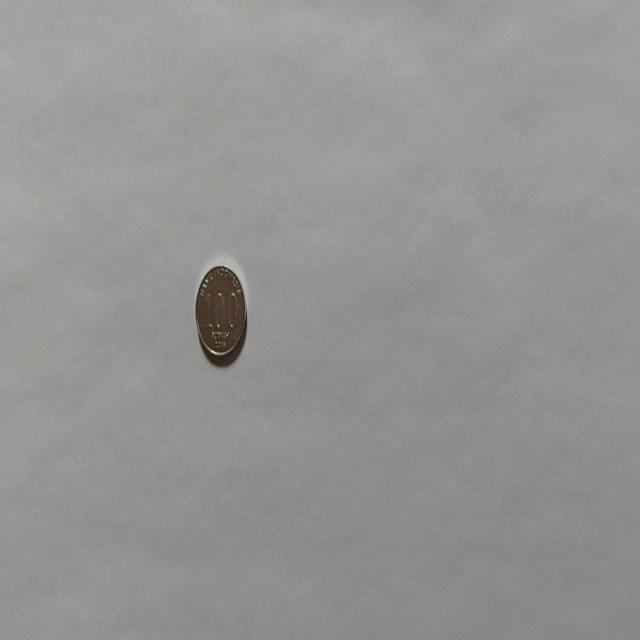seratus rupiah: (194, 263, 247, 362)
